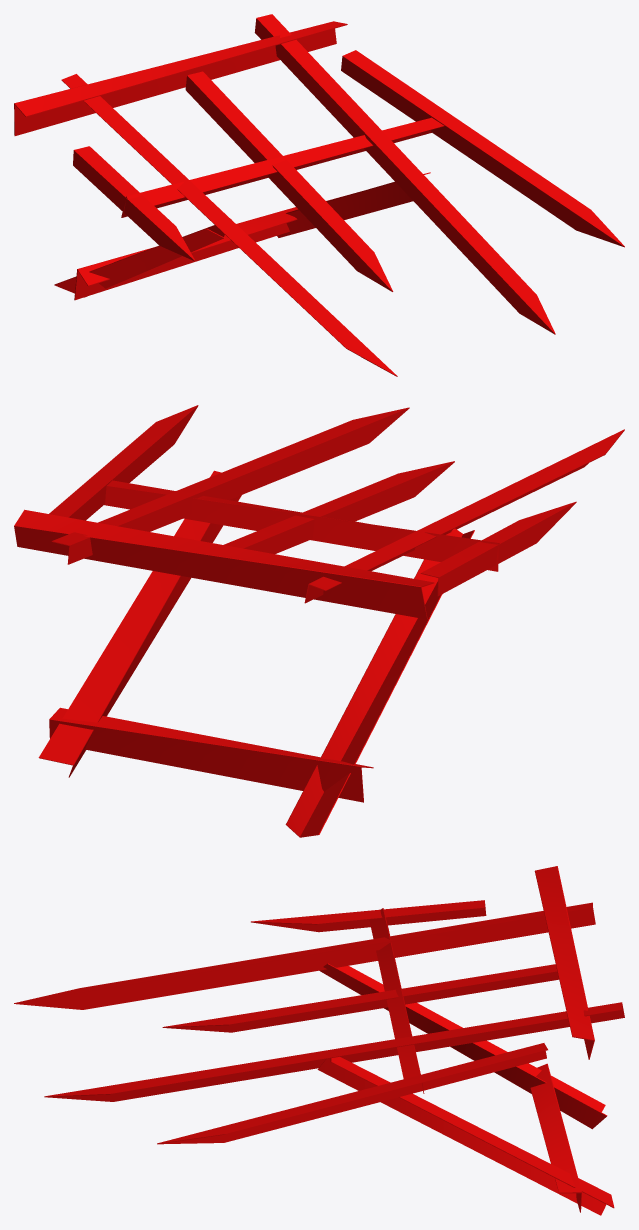
The model's file is Stake_Metal_Grp_01_Lod0.fbx.
The picture shows the model from 3 angles, top to bottom: view 1: azimuth 30°, elevation 25°; view 2: azimuth 150°, elevation 25°; view 3: azimuth 270°, elevation 25°; orthographic projection. The views are drawn at different scales.
Parts seen in each view (by area): view 1: Stake_Metal_Grp_01_Lod0; view 2: Stake_Metal_Grp_01_Lod0; view 3: Stake_Metal_Grp_01_Lod0.
Boxes of the visible parts, <box> form: Stake_Metal_Grp_01_Lod0: <box>14,14,624,376</box>; Stake_Metal_Grp_01_Lod0: <box>14,405,624,837</box>; Stake_Metal_Grp_01_Lod0: <box>14,866,624,1215</box>.
Bounding box in the file's own units: 222 × 119 × 298.
